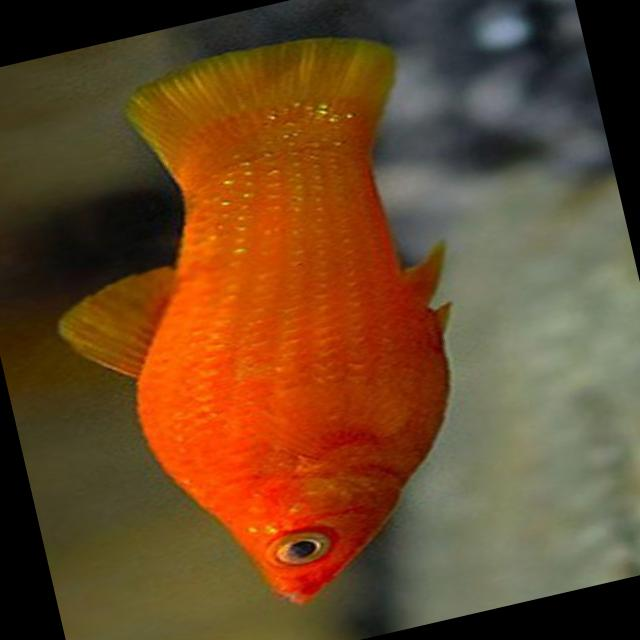PlatyFish: (0, 0, 541, 640)
